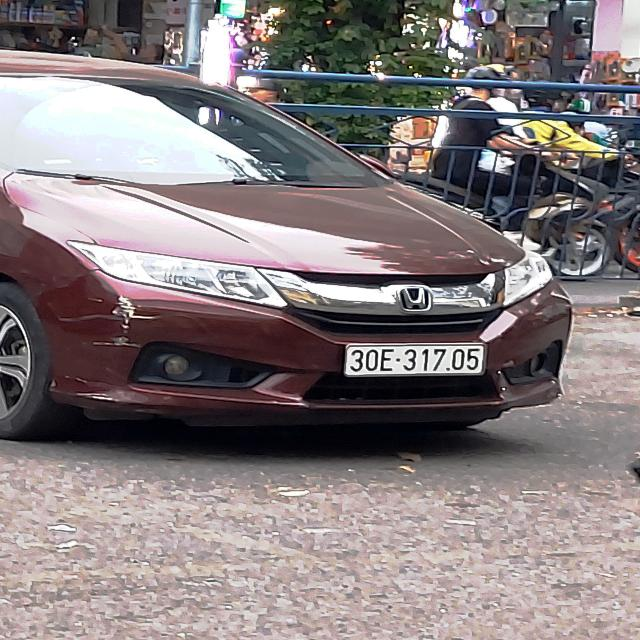license_plate: (338, 337, 495, 384)
